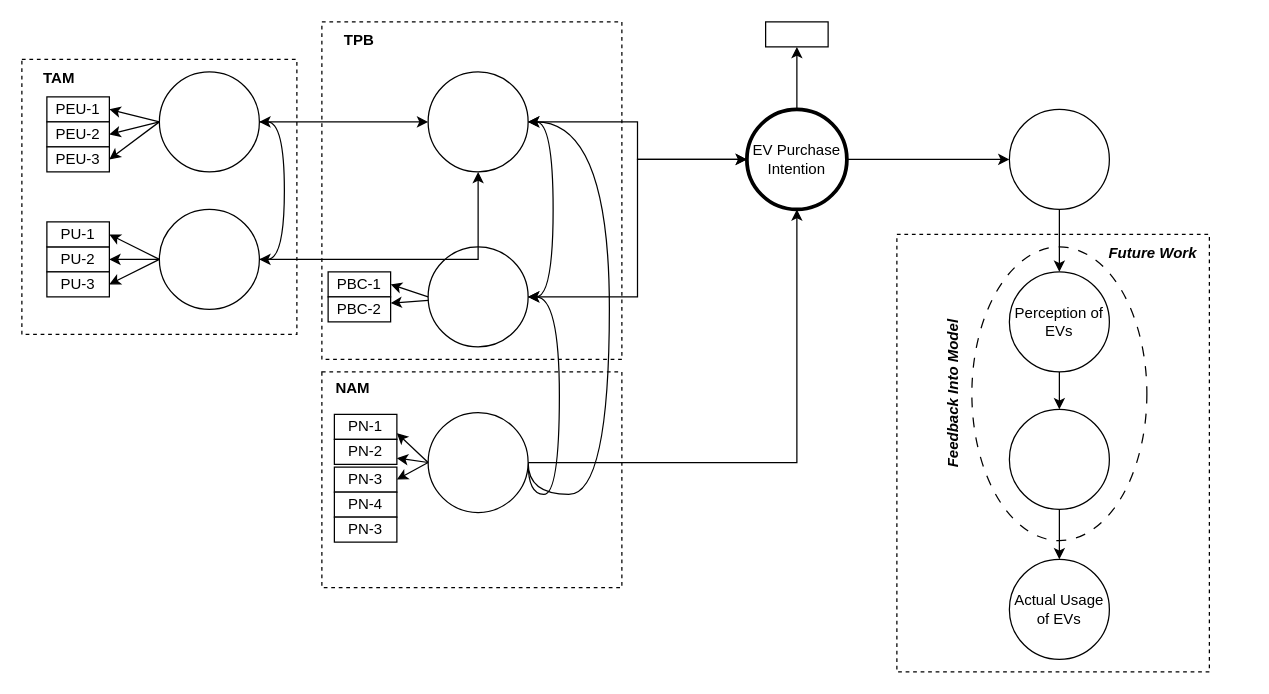
The diagram is 1269 pixels wide and 694 high, and some of its shapes have lost their labels. Each missing label, with the box of its shape:
Attitude: (427, 71, 528, 172)
EV Purchase Behavior: (1008, 108, 1109, 209)
EV Re-purchase Intention: (1008, 408, 1109, 509)
INT: (764, 21, 828, 47)
Perceived Behavioral Control: (427, 246, 528, 347)
Perceived Ease of Use: (158, 71, 259, 172)
Perceived Usefulness: (158, 208, 259, 309)
Personal Norm: (427, 411, 528, 512)
